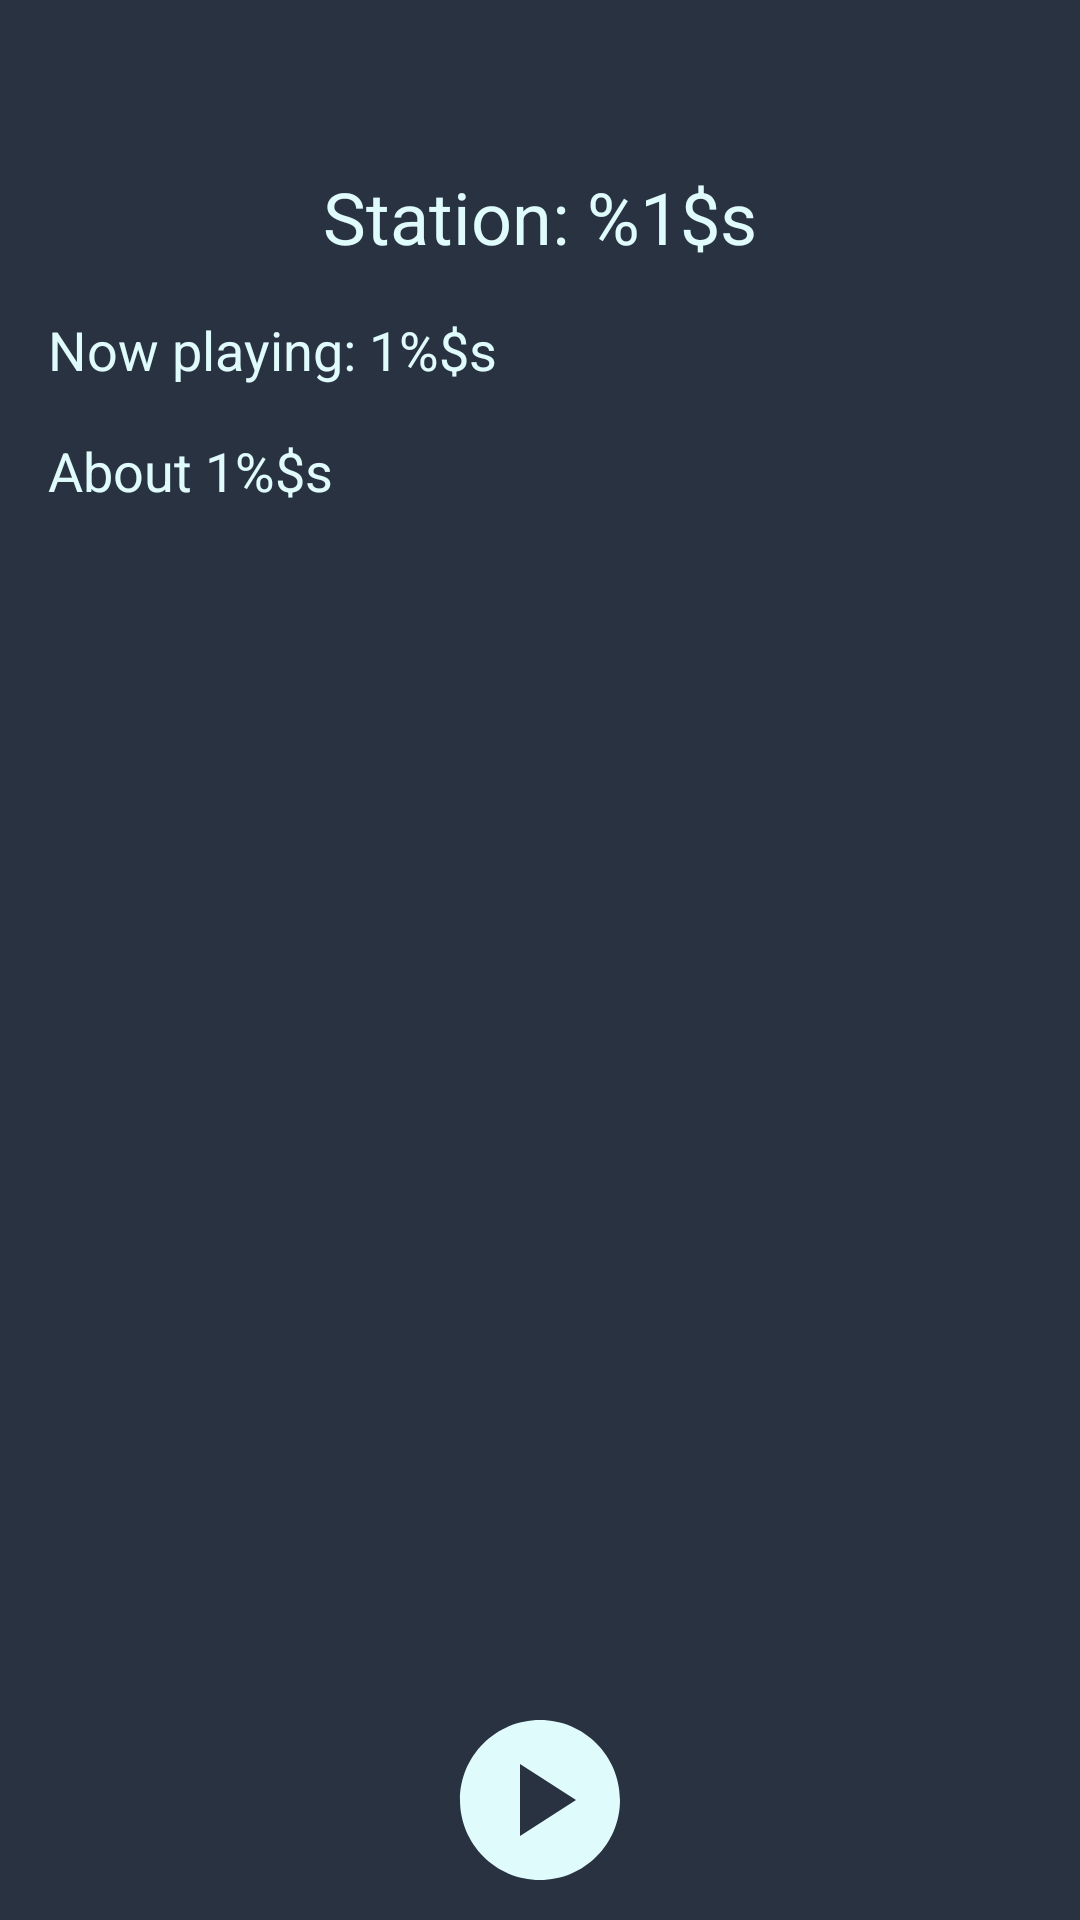

Named icons in this screenshot (1080px×1920px) and their centers, (x,y):
play: (540,1800)
